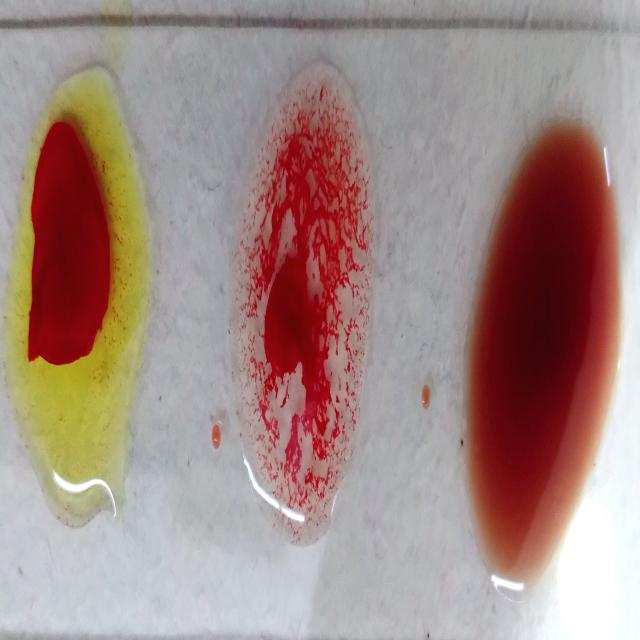B: (10, 82, 156, 532)
D: (233, 70, 373, 546)
